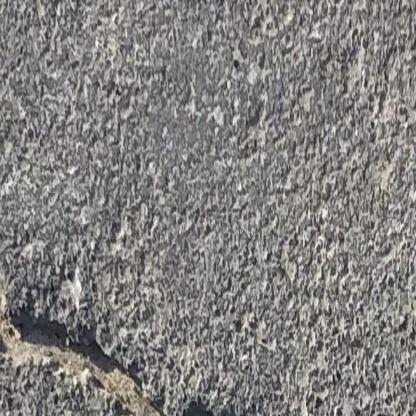Cracks: (0, 245, 294, 416)
